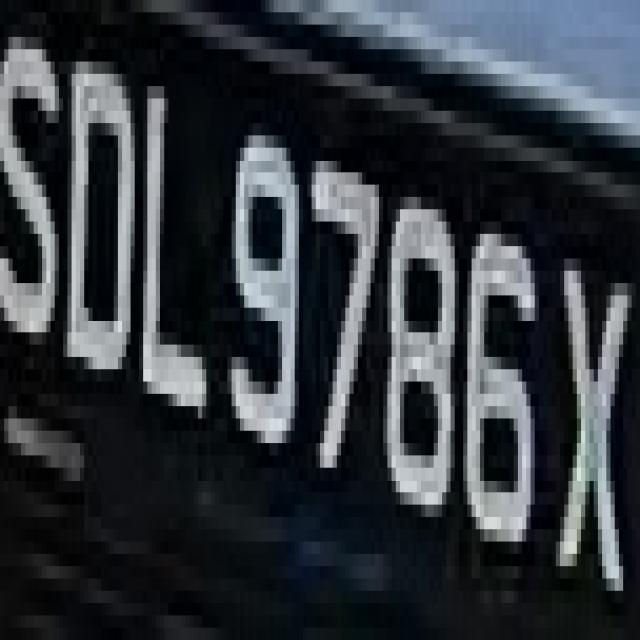6: (459, 184, 543, 554)
7: (307, 160, 383, 480)
8: (392, 172, 468, 530)
9: (228, 86, 312, 468)
D: (63, 49, 135, 418)
L: (147, 74, 215, 443)
S: (8, 12, 68, 394)
X: (560, 197, 632, 603)
